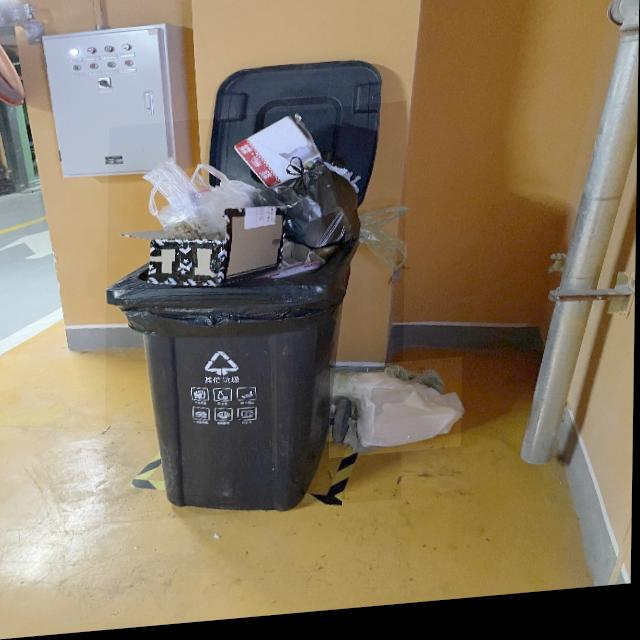garbage: (330, 365, 463, 464)
overflow: (105, 109, 407, 527)
